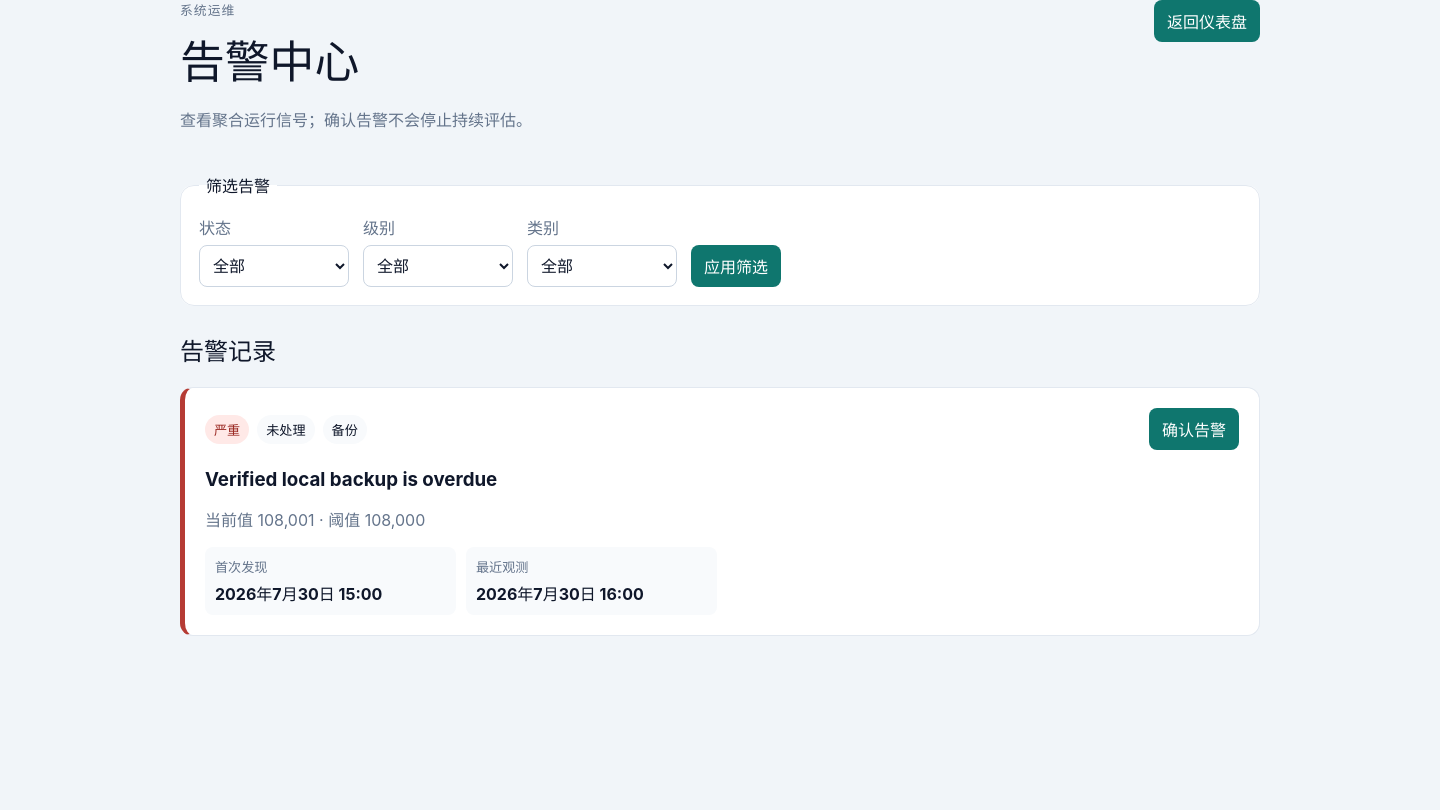
Test case: AlertsView › invalidates a mutation-period visibility response after acknowledgement fails
Click the button "确认告警" at (1194, 429), box [1149,408,1239,450]
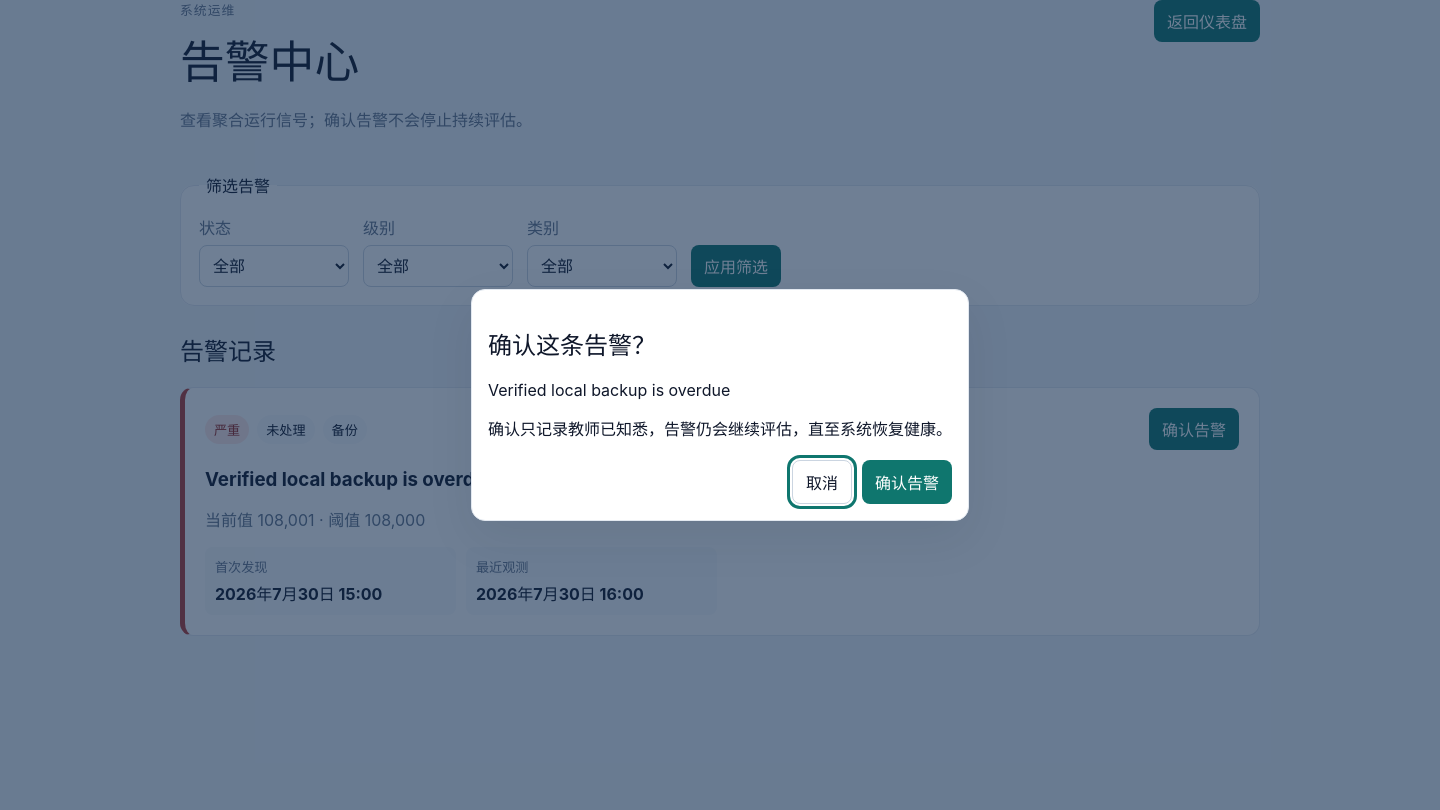
Click the button with test id "confirm-acknowledge" at (907, 482), box [862,460,952,504]
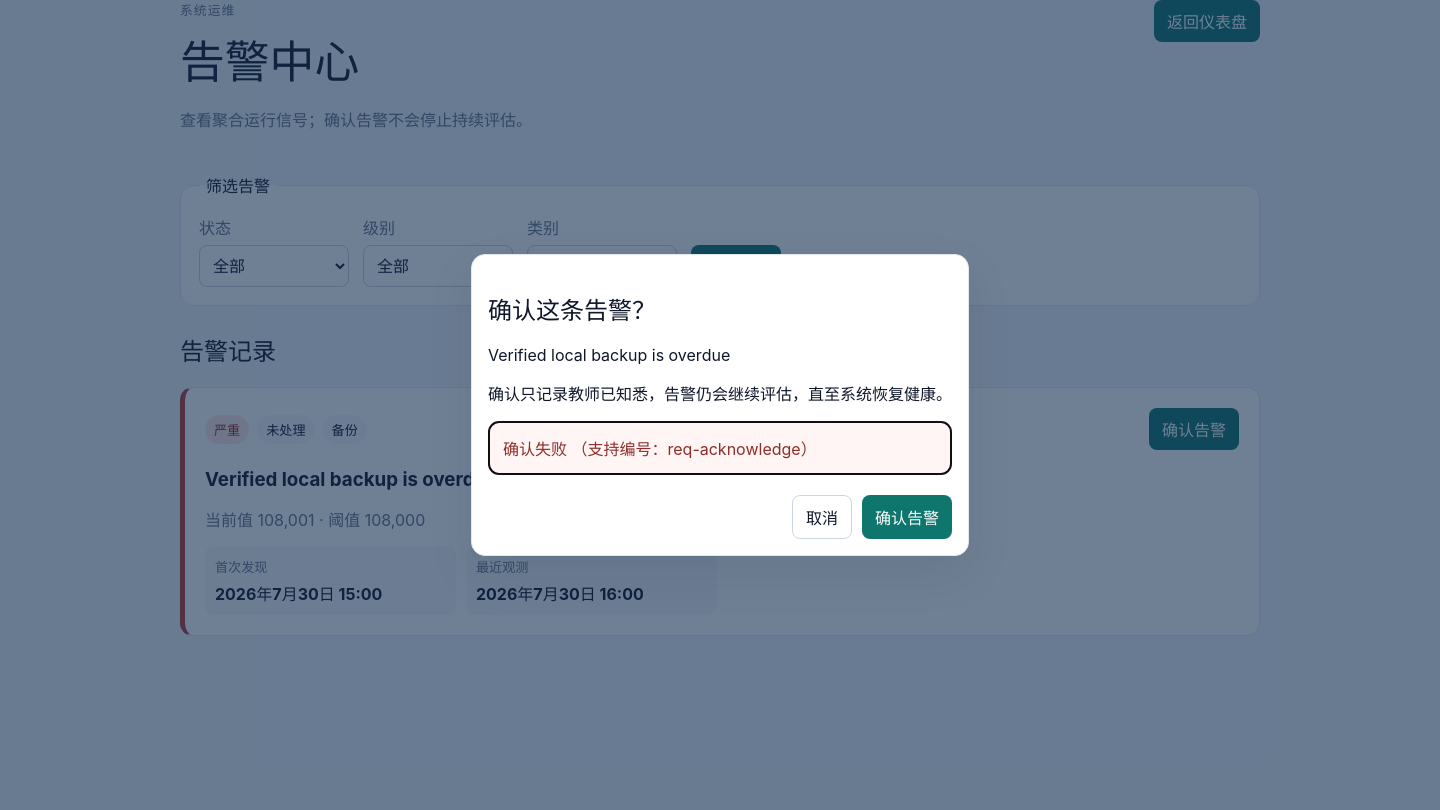
Expected: the message with test id "acknowledge-error" shows "req-acknowledge", [572,439,817,459]
